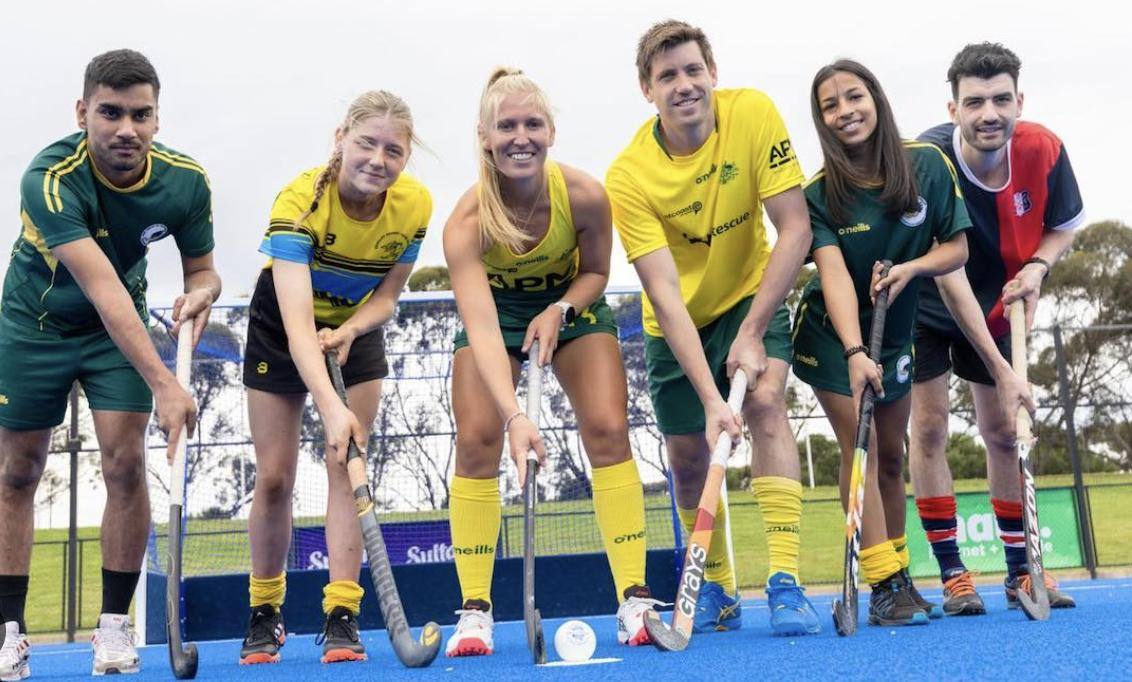ball: (544, 615, 606, 670)
